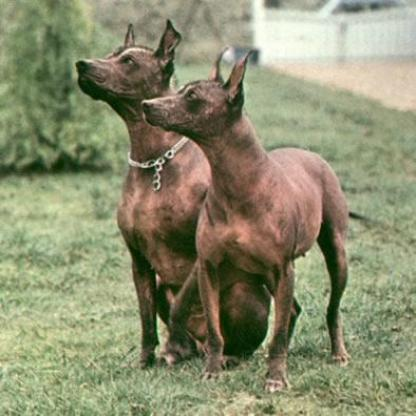Mexican_hairless: (142, 46, 350, 396), (72, 19, 269, 374)
